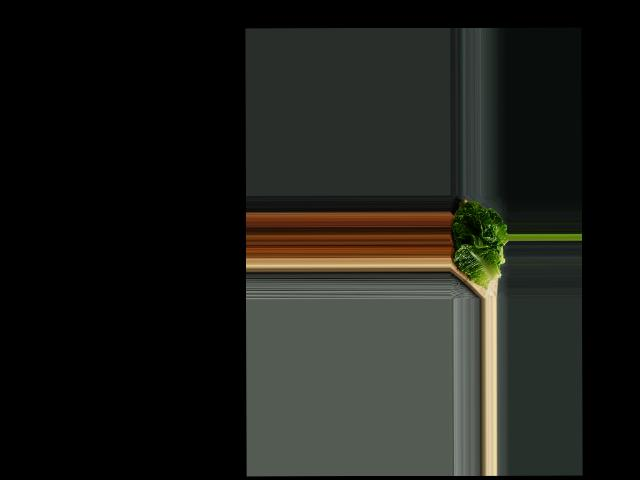lettuce: (449, 198, 507, 286)
